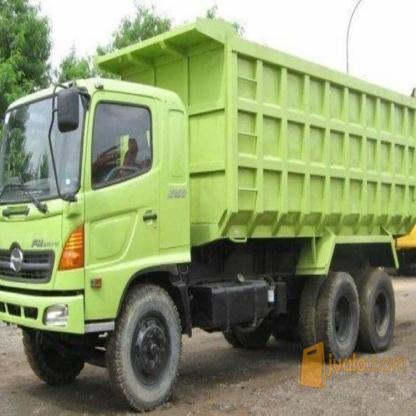dump_truck: (2, 15, 416, 415)
